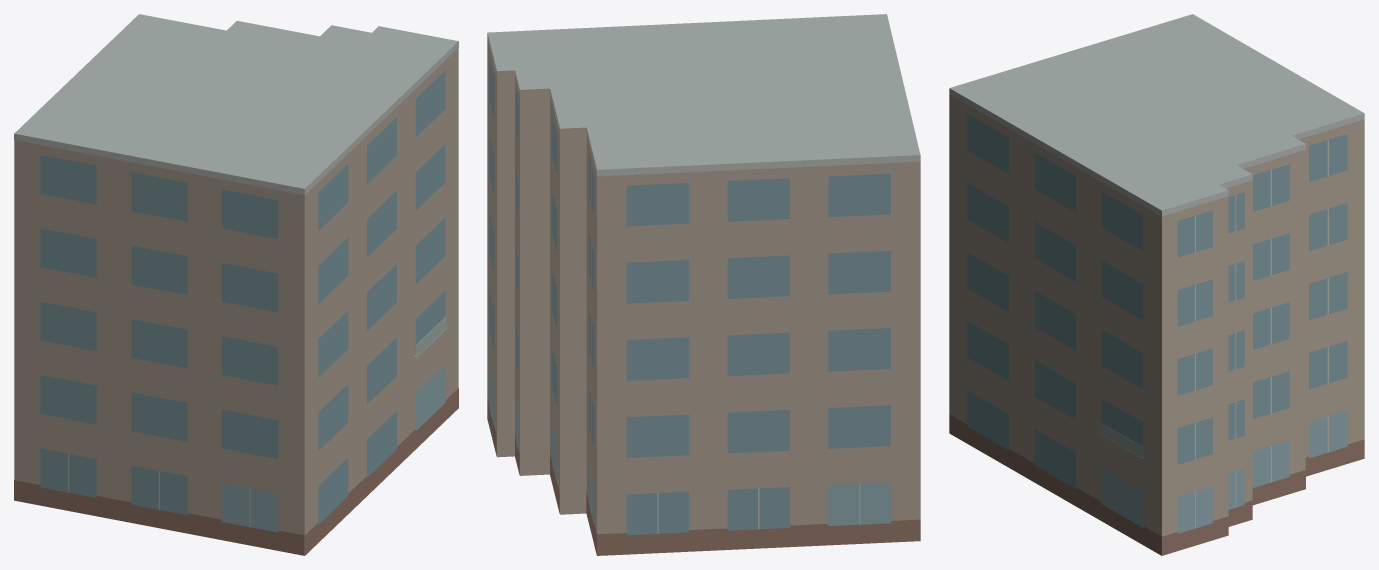
The model's file is survey-upis-33037439.glb.
3 renders of one model, left to right at view 1: azimuth 30°, elevation 25°; view 2: azimuth 150°, elevation 25°; view 3: azimuth 270°, elevation 25°, orthographic. The views are drawn at different scales.
Parts seen in each view (by area): view 1: survey-upis-33037439.tmp; view 2: survey-upis-33037439.tmp; view 3: survey-upis-33037439.tmp.
Boxes of the visible parts, <box> form: survey-upis-33037439.tmp: <box>14,14,458,555</box>; survey-upis-33037439.tmp: <box>487,14,920,555</box>; survey-upis-33037439.tmp: <box>949,14,1364,555</box>.
Size of the model in its own units: 17.35 by 14.2 by 15.49.
